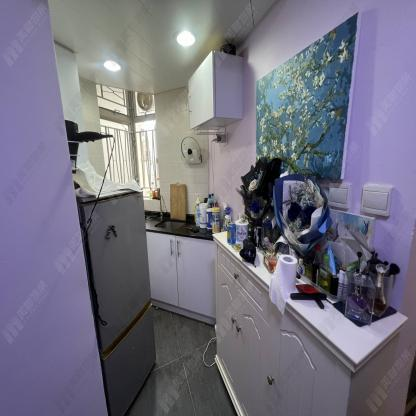Cupboard: (214, 242, 353, 416), (148, 233, 215, 326), (188, 52, 240, 129)
Exhaust Fan: (136, 91, 155, 112)
Faucet: (159, 194, 167, 219)
Fridge: (82, 191, 157, 416)
Sink: (155, 220, 184, 230)
